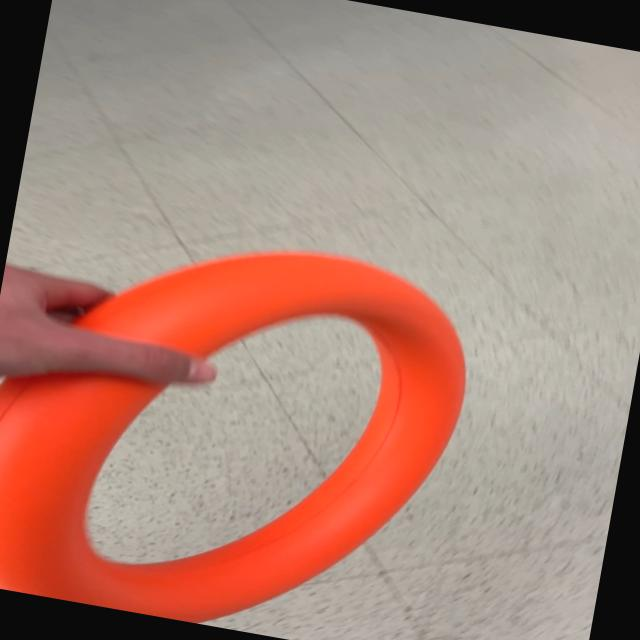note: (0, 196, 487, 640)
